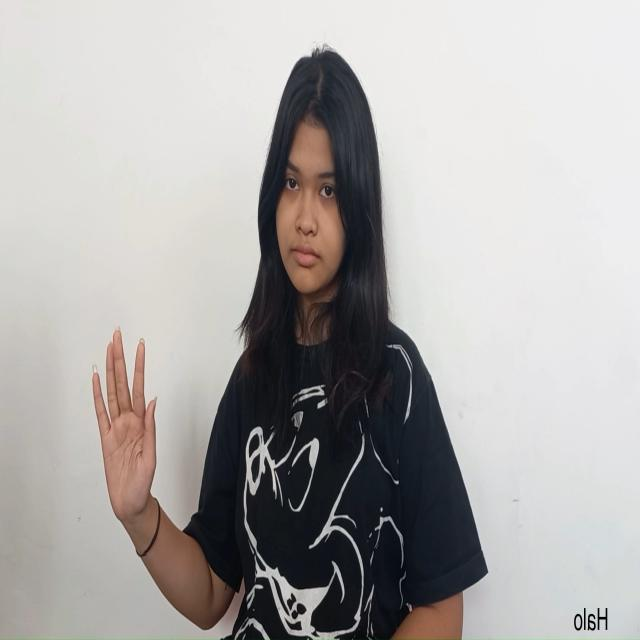Halo -BISINDO-: (91, 326, 158, 535)
